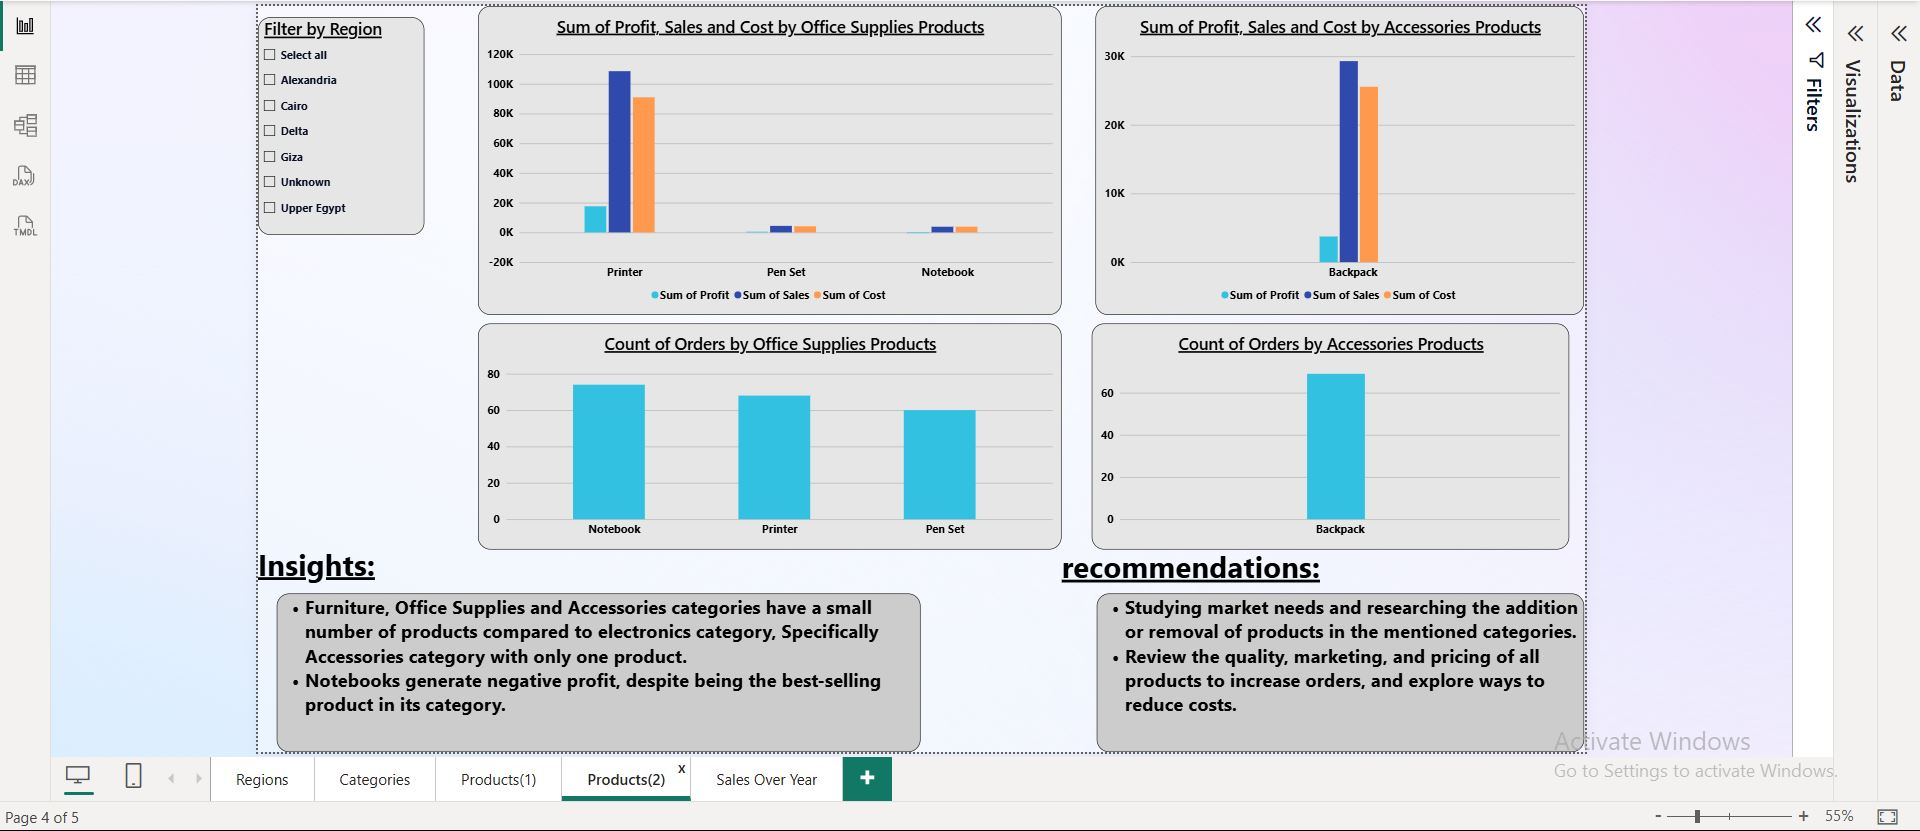

What the dashboard file says about the page in this screenshot:
{"tool":"powerbi","page":{"name":"Products(2)","canvas":[1920,1080],"ordinal":3},"visuals":[{"type":"clusteredColumnChart","title":"Count of Orders by Office Supplies Products","fields":{"Category":["Sheet1.Product"],"Y":["CountNonNull(Sheet1.Product)"]},"box":[318.5,459.7,845.1,327.5],"z":2000},{"type":"clusteredColumnChart","title":"Count of Orders by Accessories Products","fields":{"Category":["Sheet1.Product"],"Y":["CountNonNull(Sheet1.Product)"]},"box":[1207,459.7,691.3,327.5],"z":3000},{"type":"slicer","fields":{"Values":["Sheet1.Region"]},"box":[0,16.3,240.7,314.9],"z":4000},{"type":"textbox","box":[0,778.2,204.5,72.4],"z":5000},{"type":"textbox","box":[27.1,850.5,932,229.8],"z":6000},{"type":"textbox","box":[1163.6,781.8,428.9,68.8],"z":7000},{"type":"textbox","box":[1214.3,850.5,705.8,229.8],"z":8000},{"type":"clusteredColumnChart","title":"Sum of Profit, Sales and Cost by Office Supplies Products","fields":{"Category":["Sheet1.Product"],"Y":["Sum(Sheet1.Profit)","Sum(Sheet1.Sales)","Sum(Sheet1.Cost)"]},"box":[318.5,0,845.1,447],"z":8001},{"type":"clusteredColumnChart","title":"Sum of Profit, Sales and Cost by Accessories Products","fields":{"Category":["Sheet1.Product"],"Y":["Sum(Sheet1.Profit)","Sum(Sheet1.Sales)","Sum(Sheet1.Cost)"]},"box":[1212.5,0,707.6,447],"z":8002}]}

Visuals, with their boxes on the page's 1920x1080 design canvas (x1, y1, x2, y2). These are canvas units, not pixel positions in the 1920x831 screenshot, which may show the page scaled, cropped or inside an application window:
"Count of Orders by Office Supplies Products" clusteredColumnChart: detection(318, 460, 1164, 787)
"Count of Orders by Accessories Products" clusteredColumnChart: detection(1207, 460, 1898, 787)
slicer - Sheet1.Region: detection(0, 16, 241, 331)
textbox: detection(0, 778, 204, 851)
textbox: detection(27, 850, 959, 1080)
textbox: detection(1164, 782, 1592, 851)
textbox: detection(1214, 850, 1920, 1080)
"Sum of Profit, Sales and Cost by Office Supplies Products" clusteredColumnChart: detection(318, 0, 1164, 447)
"Sum of Profit, Sales and Cost by Accessories Products" clusteredColumnChart: detection(1212, 0, 1920, 447)
